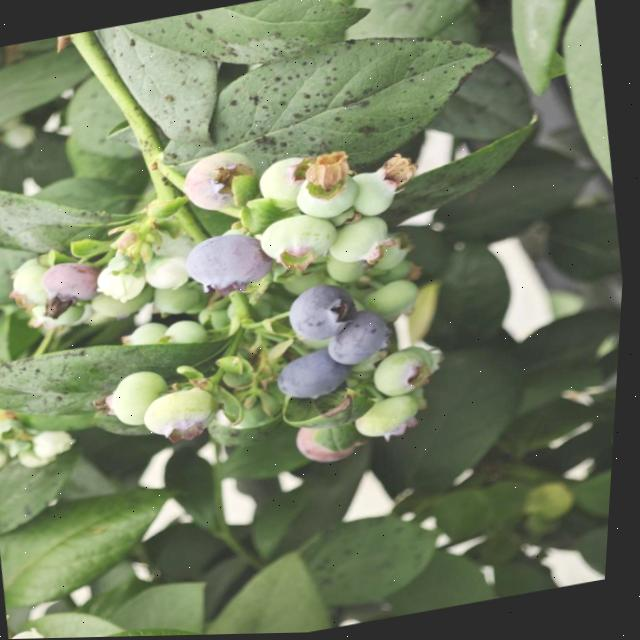RipeBlueBerry: (184, 228, 277, 300), (289, 280, 364, 347), (277, 348, 355, 406), (325, 309, 398, 369)
Semi-RipeBlueBerry: (43, 258, 104, 318)
UnripeBlueBerry: (261, 211, 344, 276), (185, 146, 262, 216), (145, 384, 227, 448)
